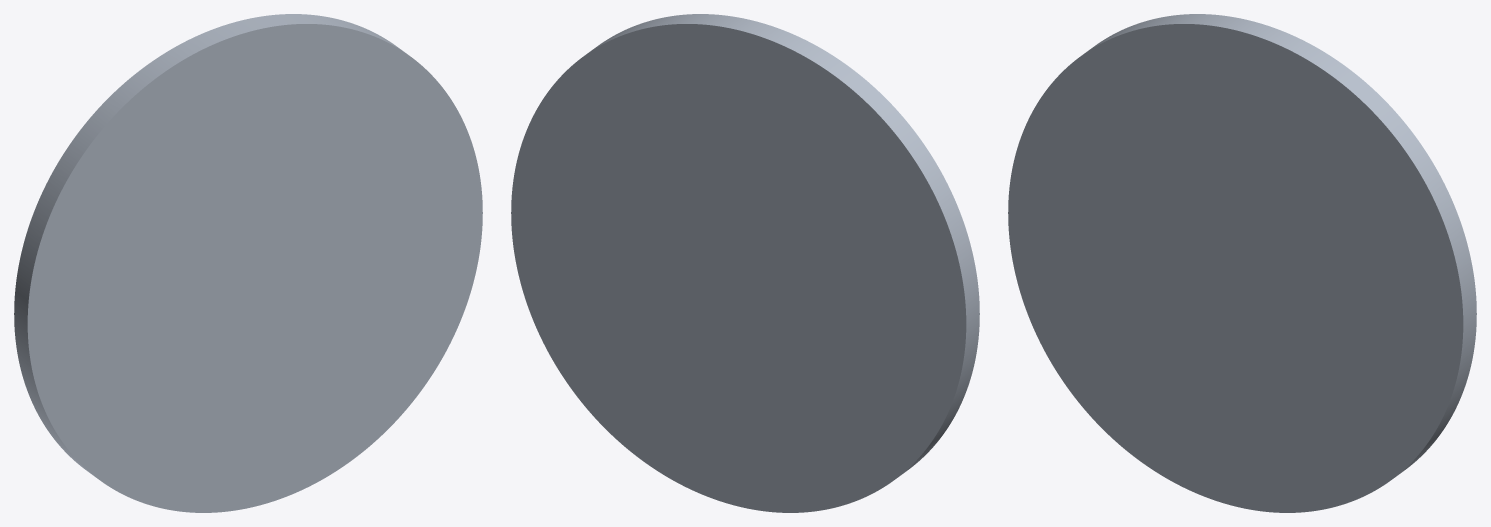
Rendered from endcap.glb.
3 renders of one model, left to right at view 1: azimuth 30°, elevation 25°; view 2: azimuth 150°, elevation 25°; view 3: azimuth 330°, elevation 25°, orthographic.
Parts seen in each view (by area): view 1: endcap saved shape; view 2: endcap saved shape; view 3: endcap saved shape.
Boxes of the visible parts, bbox=[...] form: endcap saved shape: bbox=[14, 14, 482, 512]; endcap saved shape: bbox=[511, 14, 979, 512]; endcap saved shape: bbox=[1008, 14, 1476, 512].
Size of the model in its own units: 123 by 123 by 6.35.
